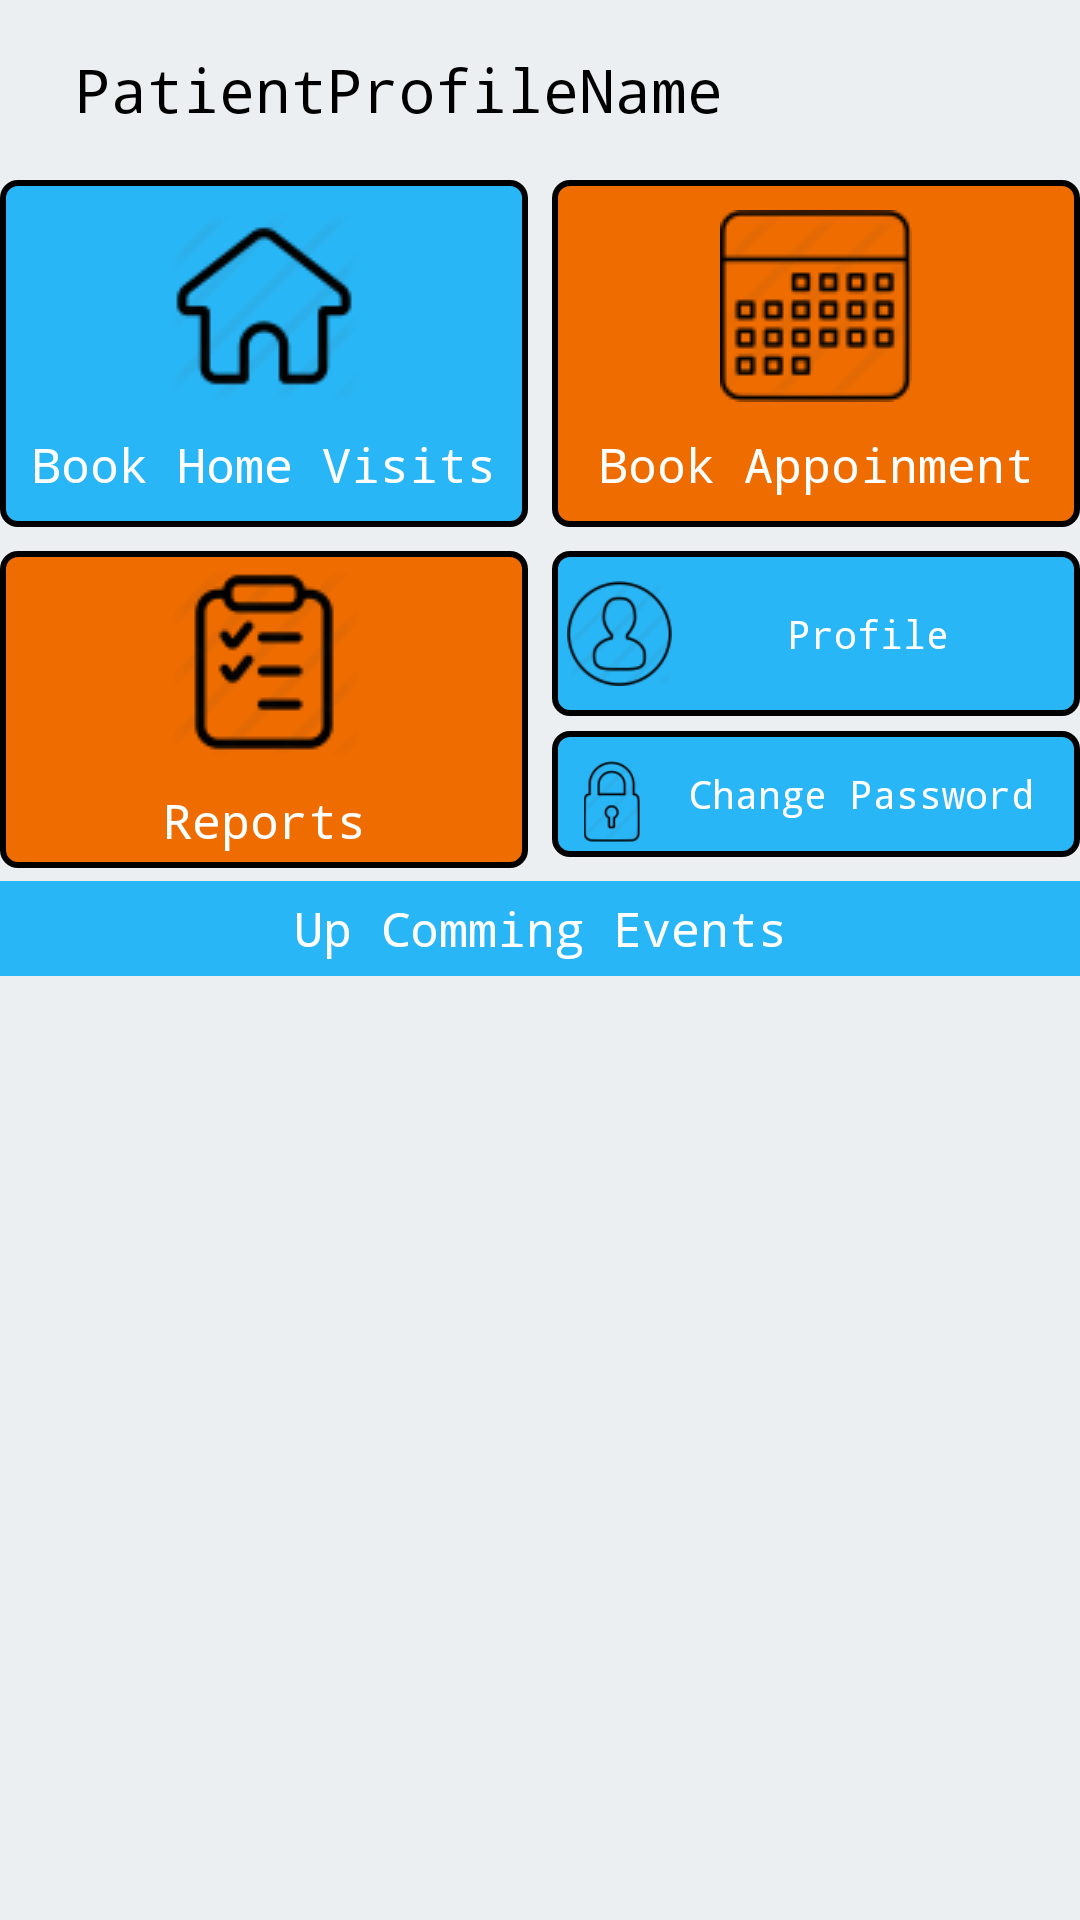

Screen size 1080*1920. Icon name, then its center in pixels as (x=x, y=y):
passchang: (x=612, y=801)
